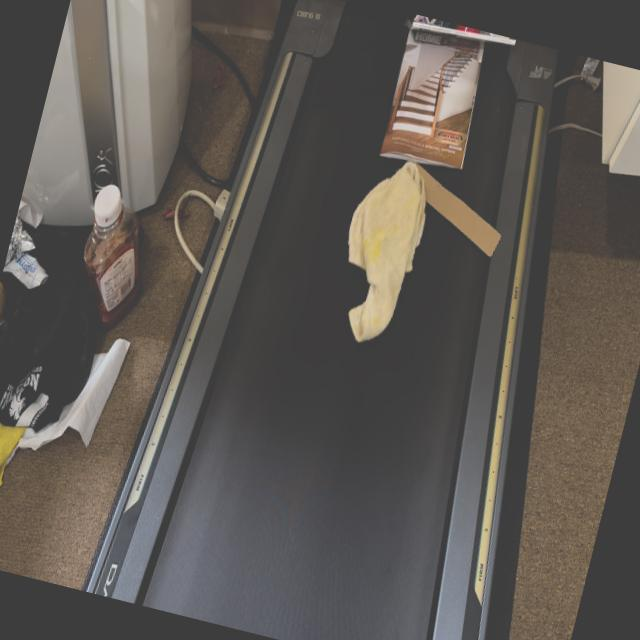Trash: (362, 10, 512, 177), (318, 158, 442, 357), (386, 168, 522, 272)
